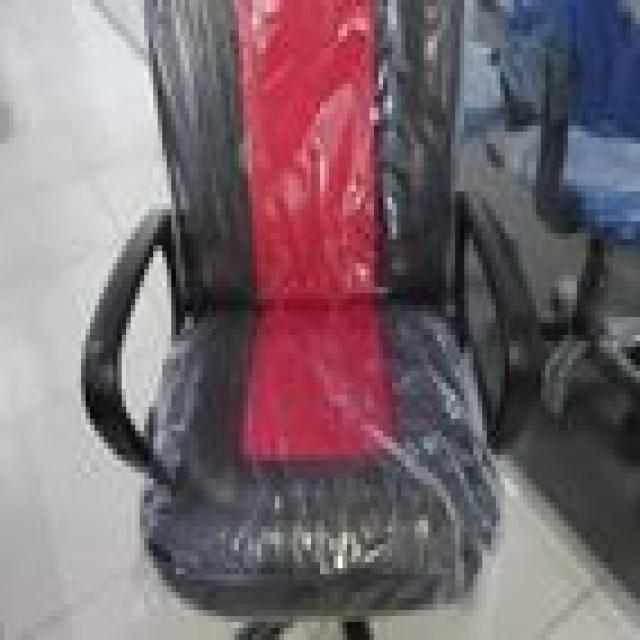others: (54, 6, 640, 640)
